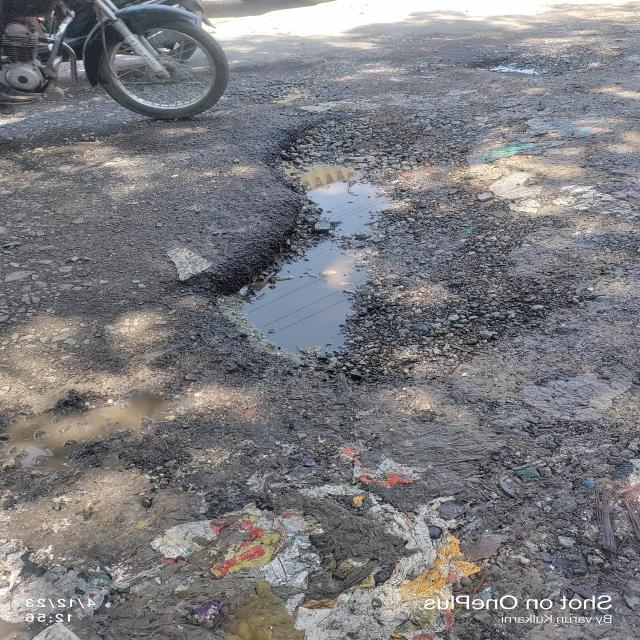potholes: (194, 126, 456, 380)
